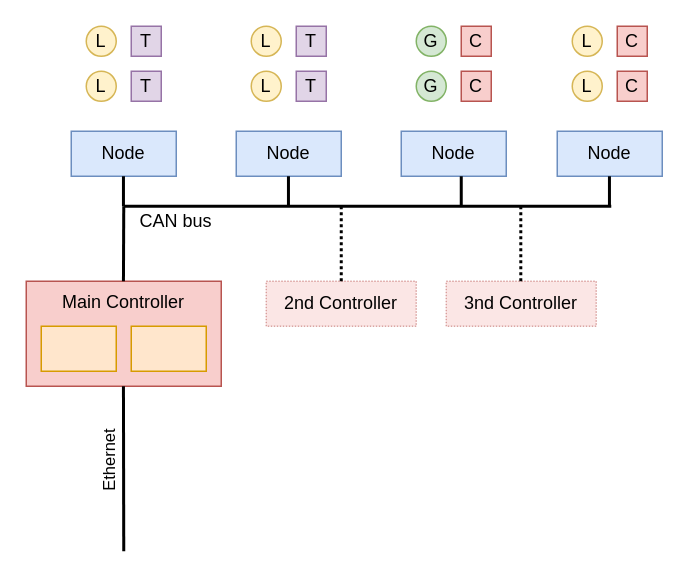
The diagram is 689 pixels wide and 581 high, and some of its shapes have lost their labels. The shapes that lost their labels are listed below. From the top down, each one's centre as x and y in pixels, then its label:
At pixel 78 348: "InfluxDB".
At pixel 168 348: "HTTP server".
